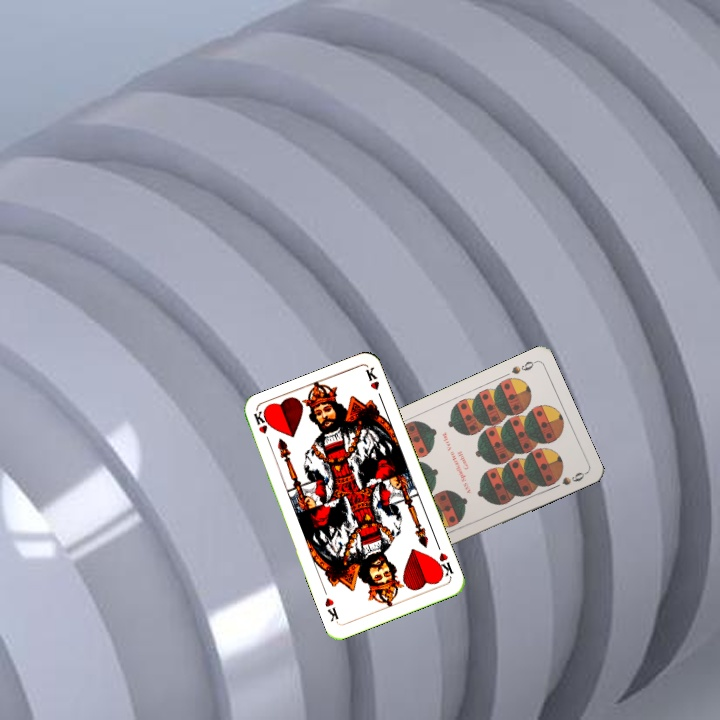HK: (249, 408, 273, 448), (431, 549, 456, 580)
S9: (508, 357, 538, 377)
